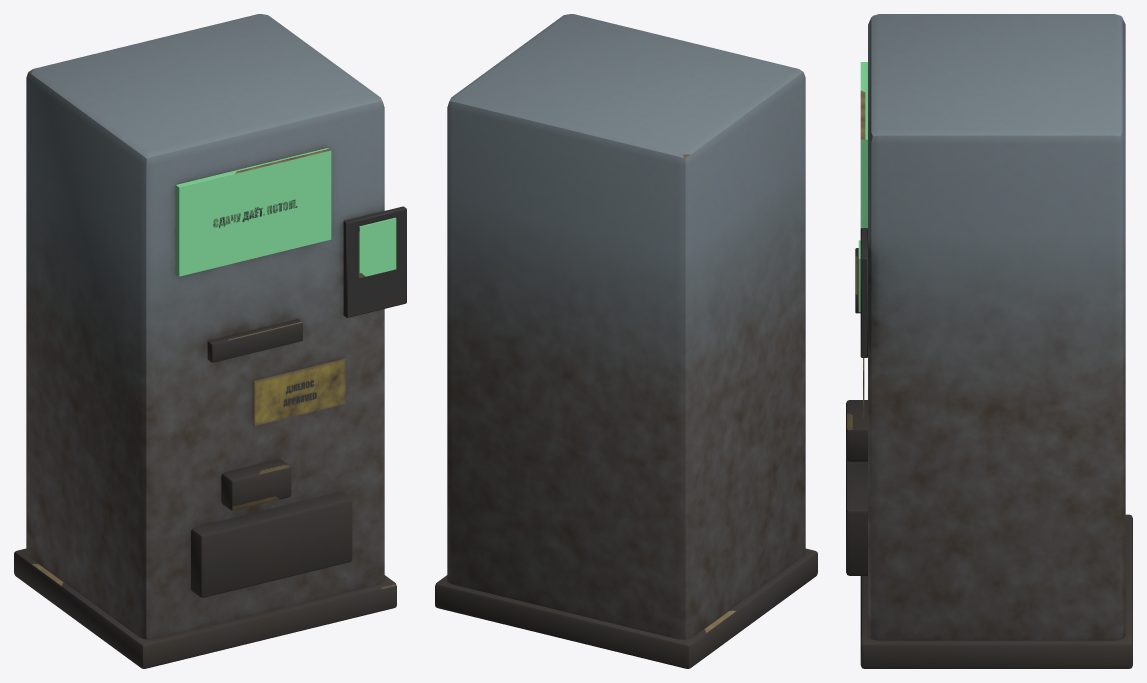
Rendered from g67_pz_vend_change.glb.
The picture shows the model from 3 angles, left to right: view 1: azimuth 30°, elevation 25°; view 2: azimuth 150°, elevation 25°; view 3: azimuth 270°, elevation 25°; orthographic projection. The views are drawn at different scales.
Parts seen in each view (by area): view 1: g67_pz_vend_change, sticker; view 2: g67_pz_vend_change; view 3: g67_pz_vend_change.
Part boxes in pixels (left/top/right/bottom): g67_pz_vend_change: left=14, top=14, right=406, bottom=668; sticker: left=253, top=359, right=345, bottom=425; g67_pz_vend_change: left=435, top=14, right=817, bottom=668; g67_pz_vend_change: left=846, top=14, right=1132, bottom=668.
Size of the model in its own units: 0.87 by 1.6 by 0.78.
Materials: 1 (1 with a texture image).
